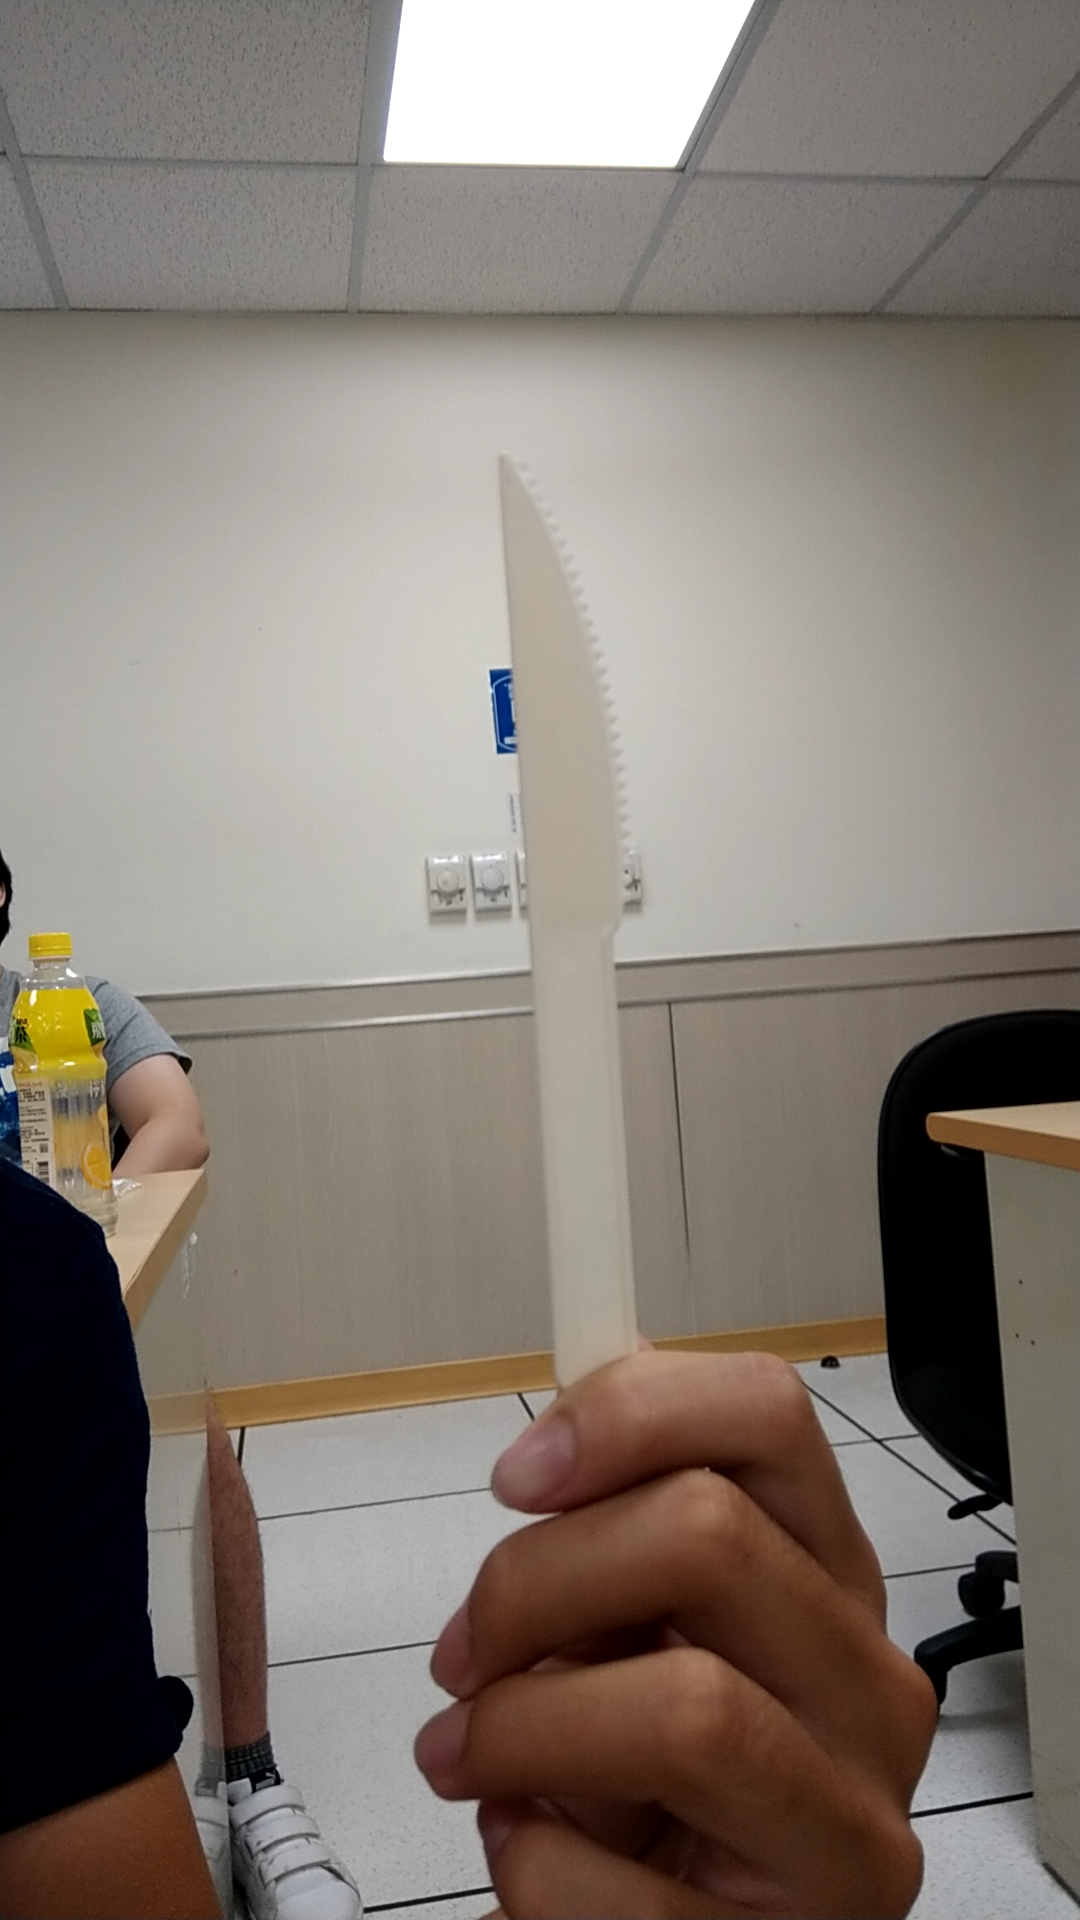knife: (483, 439, 650, 1371)
